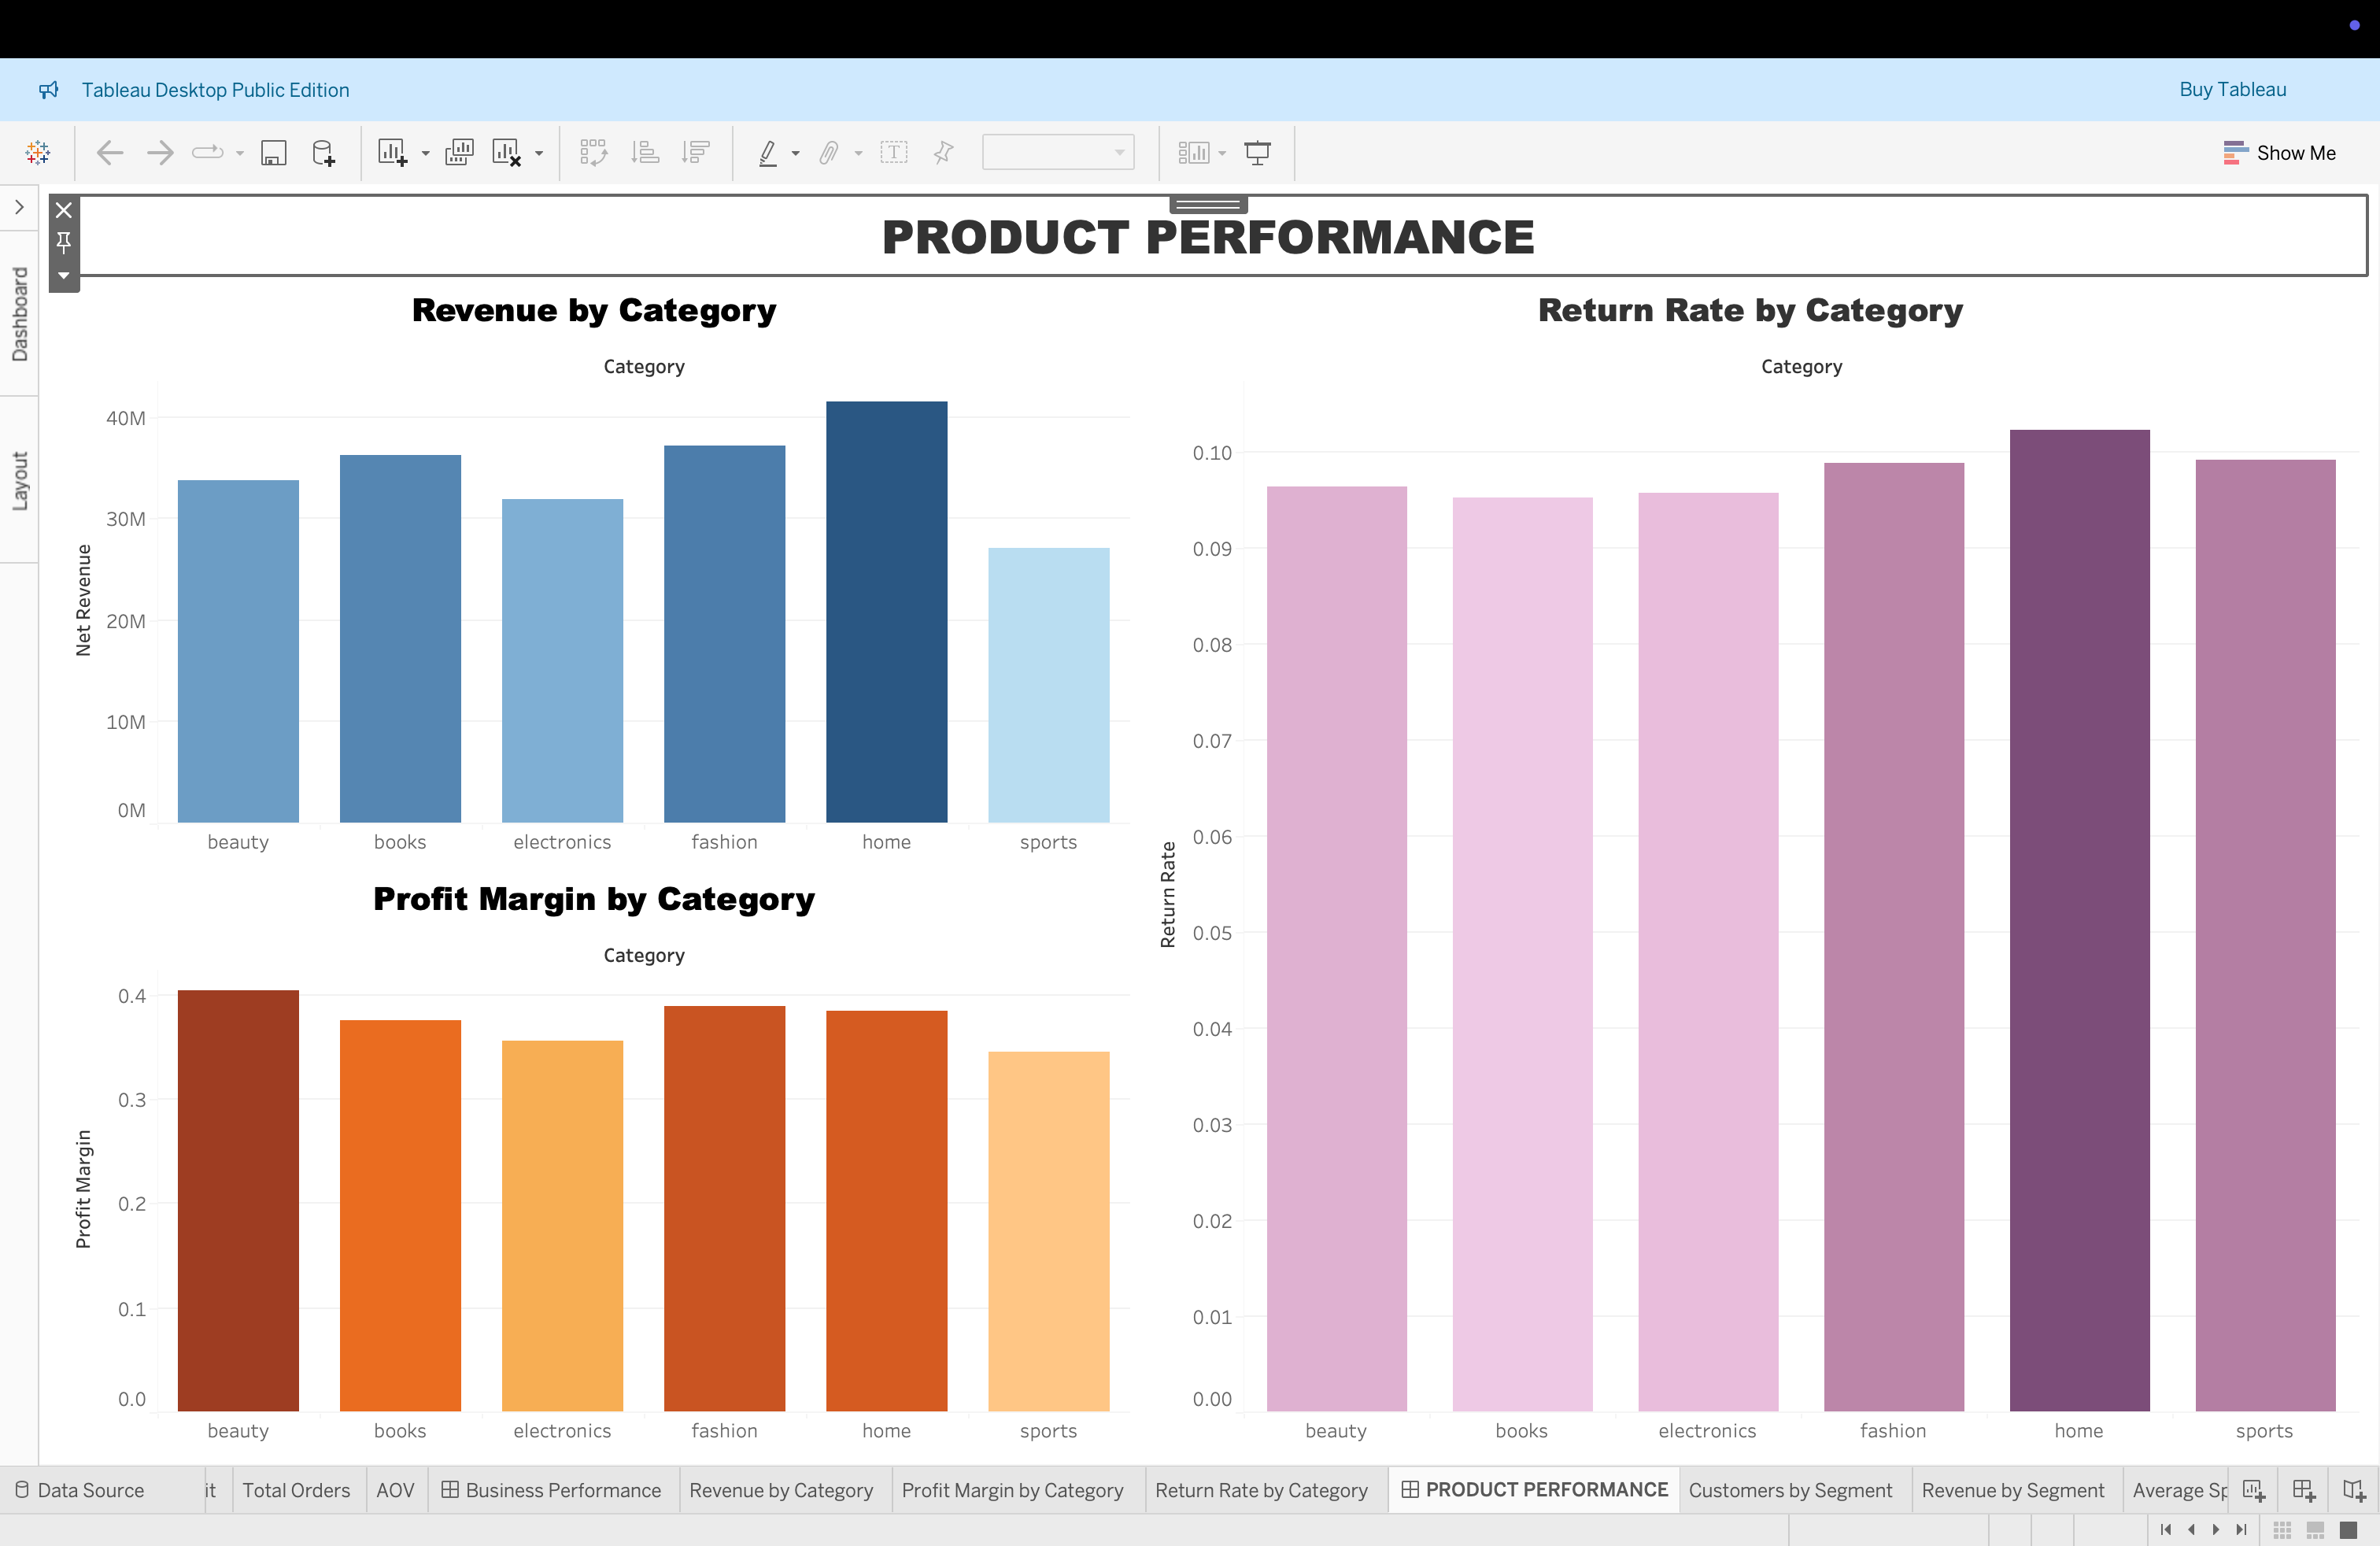

This screenshot's page, from the dashboard's own definition file:
{"tool":"tableau","page":{"name":"PRODUCT PERFORMANCE","canvas":[1000,1000],"units":"permille","ordinal":3},"visuals":[{"type":"title","box":[6.1,9.8,987.7,60.3]},{"type":"worksheet","title":"Revenue by Category","mark":"Automatic","rows":["net_revenue"],"cols":["category"],"box":[6.1,70.1,462.8,460]},{"type":"worksheet","title":"Return Rate by Category","mark":"Automatic","rows":["Calculation_6635736933498882"],"cols":["category"],"box":[468.9,70.1,525,920.1]},{"type":"worksheet","title":"Profit Margin by Category","mark":"Automatic","rows":["Calculation_6635736933109761"],"cols":["category"],"box":[6.1,530.1,462.8,460]}]}

Visuals, with their boxes on the dashboard's canvas, which has no fixed pixel size, in thousandths of its width and height (x1, y1, x2, y2). These are canvas units, not pixel positions in the 2380x1546 screenshot, which may show the page scaled, cropped or inside an application window:
title: {"x1": 6, "y1": 10, "x2": 994, "y2": 70}
"Revenue by Category" worksheet: {"x1": 6, "y1": 70, "x2": 469, "y2": 530}
"Return Rate by Category" worksheet: {"x1": 469, "y1": 70, "x2": 994, "y2": 990}
"Profit Margin by Category" worksheet: {"x1": 6, "y1": 530, "x2": 469, "y2": 990}
